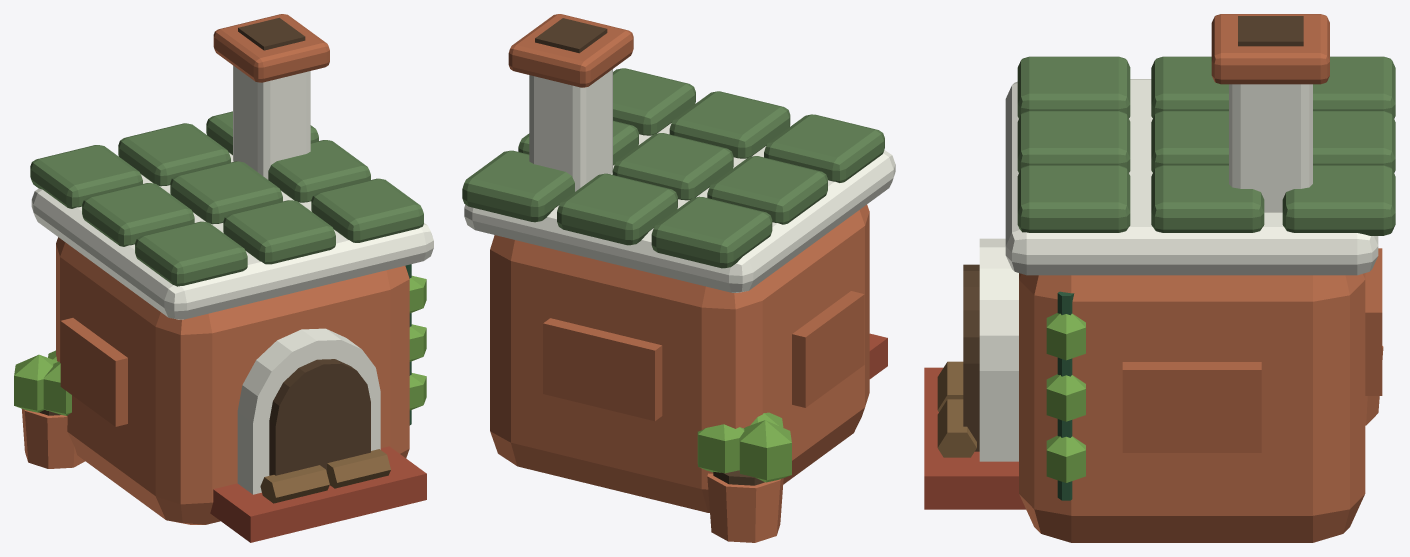
File: bakery.glb
The picture shows the model from 3 angles, left to right: view 1: azimuth 30°, elevation 25°; view 2: azimuth 150°, elevation 25°; view 3: azimuth 270°, elevation 25°; orthographic projection. The views are drawn at different scales.
Visible parts, largest first — view 1: Bakery_clay_oven, Bakery_ceramic_roof, idle_mouth, Bakery_oven_hearth, Bakery_ceramic_mouth_arch, Bakery_chimney, Bakery_copper_side_tile, Bakery_moss_roof_tile, Bakery_moss_roof_tile.006, Bakery_moss_roof_tile.003, Bakery_moss_roof_tile.001, Bakery_moss_roof_tile.002 (+14 smaller); view 2: Bakery_clay_oven, Bakery_ceramic_roof, Bakery_rear_tile, Bakery_chimney, Bakery_moss_roof_tile.002, Bakery_moss_roof_tile.005, Bakery_copper_side_tile, Bakery_moss_roof_tile.008, Bakery_moss_roof_tile, Bakery_moss_roof_tile.001, Bakery_moss_roof_tile.003, Bakery_moss_roof_tile.004 (+8 smaller); view 3: Bakery_clay_oven, Bakery_ceramic_roof, Bakery_copper_side_tile.001, Bakery_chimney, Bakery_ceramic_mouth_arch, Bakery_moss_roof_tile.006, Bakery_moss_roof_tile.008, Bakery_moss_roof_tile.007, Bakery_chimney_cap, Bakery_oven_hearth, Bakery_moss_roof_tile.003, Bakery_moss_roof_tile (+13 smaller).
Boxes of the visible parts, box(x1,y1,x2,y2) form: Bakery_clay_oven: box(56, 237, 409, 524); Bakery_ceramic_roof: box(31, 153, 433, 319); idle_mouth: box(269, 359, 370, 475); Bakery_oven_hearth: box(210, 446, 426, 542); Bakery_ceramic_mouth_arch: box(237, 328, 380, 494); Bakery_chimney: box(233, 65, 310, 179); Bakery_copper_side_tile: box(60, 318, 127, 426); Bakery_moss_roof_tile: box(135, 221, 247, 286); Bakery_moss_roof_tile.006: box(311, 178, 423, 242); Bakery_moss_roof_tile.003: box(223, 200, 335, 264); Bakery_moss_roof_tile.001: box(82, 183, 194, 246); Bakery_moss_roof_tile.002: box(30, 145, 142, 208); Bakery_clay_oven: box(490, 204, 869, 512); Bakery_ceramic_roof: box(464, 123, 895, 292); Bakery_rear_tile: box(543, 318, 662, 421); Bakery_chimney: box(529, 69, 612, 191); Bakery_moss_roof_tile.002: box(651, 196, 772, 268); Bakery_moss_roof_tile.005: box(557, 173, 677, 245); Bakery_copper_side_tile: box(792, 291, 864, 407); Bakery_moss_roof_tile.008: box(462, 150, 574, 222); Bakery_moss_roof_tile: box(764, 114, 884, 182); Bakery_moss_roof_tile.001: box(707, 156, 827, 224); Bakery_moss_roof_tile.003: box(669, 91, 790, 158); Bakery_moss_roof_tile.004: box(612, 133, 733, 200); Bakery_clay_oven: box(1019, 273, 1365, 542); Bakery_ceramic_roof: box(1005, 79, 1378, 275); Bakery_copper_side_tile.001: box(1122, 362, 1261, 452); Bakery_chimney: box(1229, 84, 1312, 212); Bakery_ceramic_mouth_arch: box(979, 238, 1018, 461); Bakery_moss_roof_tile.006: box(1017, 165, 1130, 232); Bakery_moss_roof_tile.008: box(1282, 165, 1395, 235); Bakery_moss_roof_tile.007: box(1151, 165, 1264, 232); Bakery_chimney_cap: box(1211, 14, 1329, 84); Bakery_oven_hearth: box(924, 367, 1025, 509); Bakery_moss_roof_tile.003: box(1017, 111, 1130, 172); Bakery_moss_roof_tile: box(1017, 56, 1130, 118).
Bounding box in the file's own units: 1.7 × 2.11 × 1.8.
